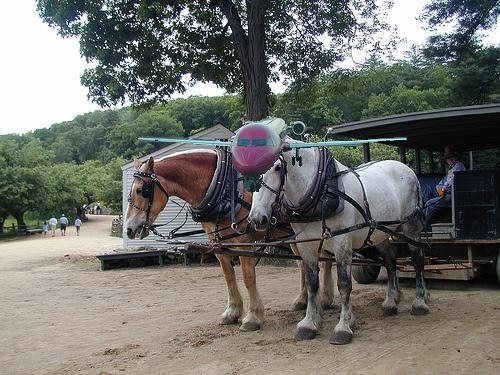tampered: (139, 117, 407, 192)
